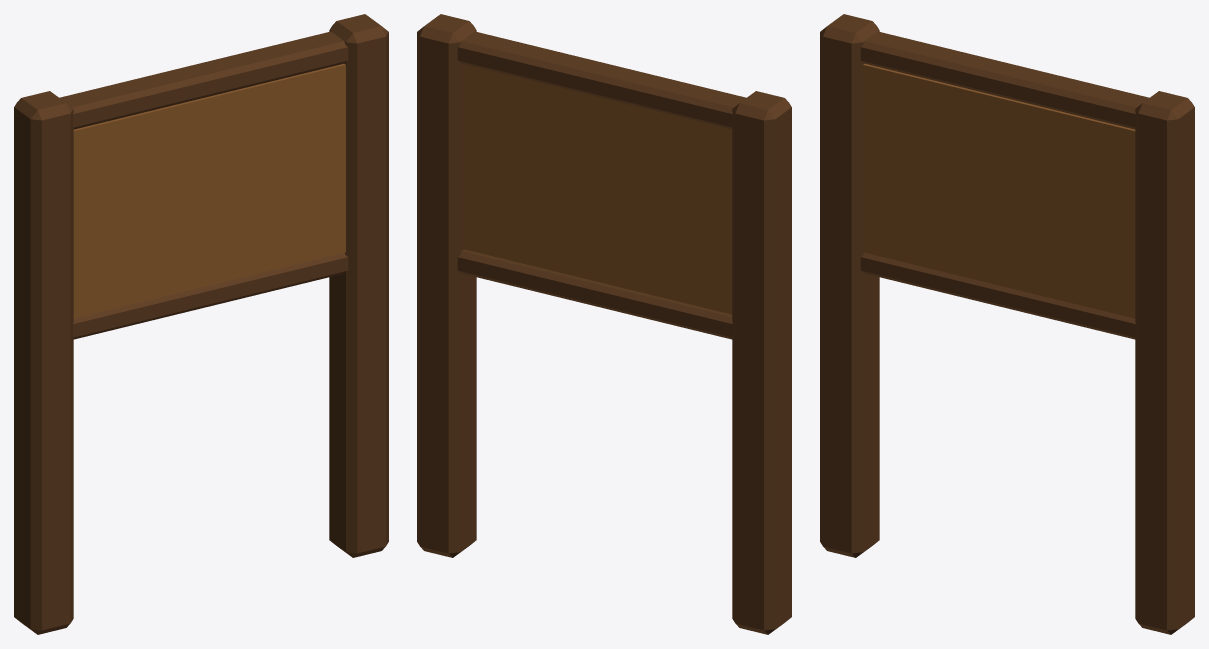
The model's file is ENV_Plot_Sign.fbx.
3 views of the same model, side by side, from view 1: azimuth 30°, elevation 25°; view 2: azimuth 150°, elevation 25°; view 3: azimuth 330°, elevation 25° (orthographic).
Visible parts, largest first — view 1: Frame, Board; view 2: Frame, Board; view 3: Frame, Board.
Part boxes in pixels (bbox=[...]): Frame: bbox=[14, 14, 388, 634]; Board: bbox=[73, 63, 345, 318]; Frame: bbox=[417, 14, 791, 634]; Board: bbox=[464, 64, 732, 314]; Frame: bbox=[820, 14, 1194, 634]; Board: bbox=[863, 63, 1135, 318].
Size of the model in its own units: 5 by 7 by 0.6.
